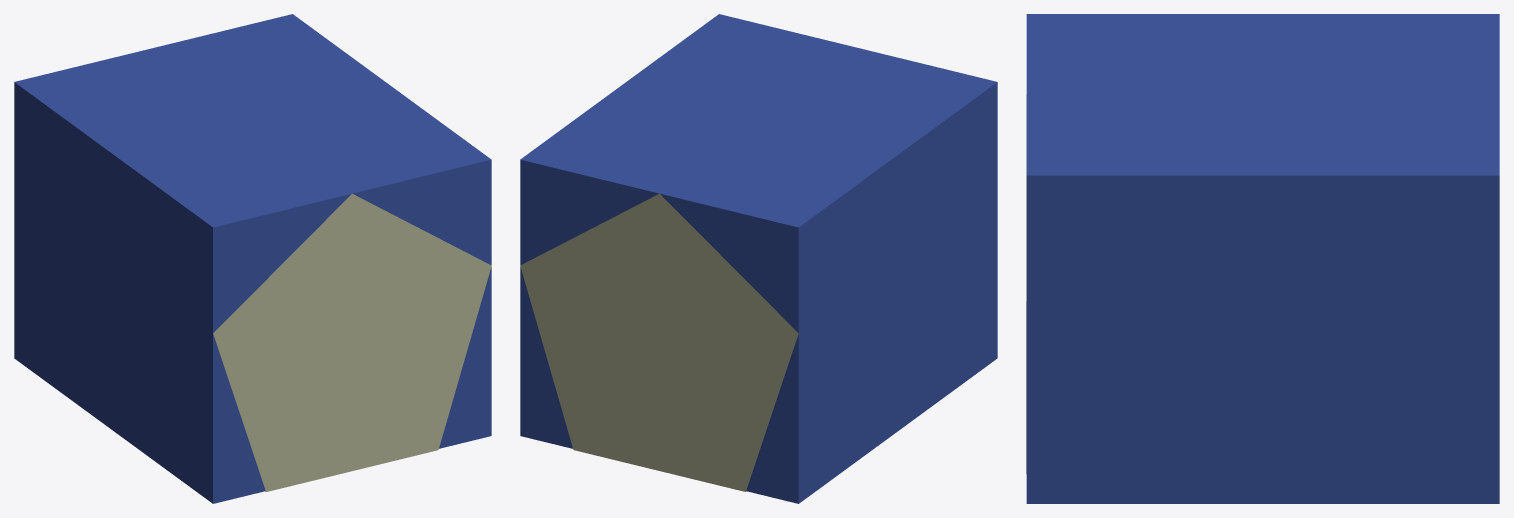
The picture shows the model from 3 angles, left to right: view 1: azimuth 30°, elevation 25°; view 2: azimuth 150°, elevation 25°; view 3: azimuth 270°, elevation 25°; orthographic projection. The views are drawn at different scales.
Parts seen in each view (by area): view 1: group_-1036298845, group_11909273; view 2: group_-1036298845, group_11909273; view 3: group_-1036298845.
Part boxes in pixels (box(x1,y1,x2,y2)): group_-1036298845: box(14, 14, 491, 503); group_11909273: box(213, 193, 491, 491); group_-1036298845: box(520, 14, 997, 503); group_11909273: box(520, 193, 798, 491); group_-1036298845: box(1026, 14, 1499, 503).
Size of the model in its own units: 4.85 by 4.62 by 6.
